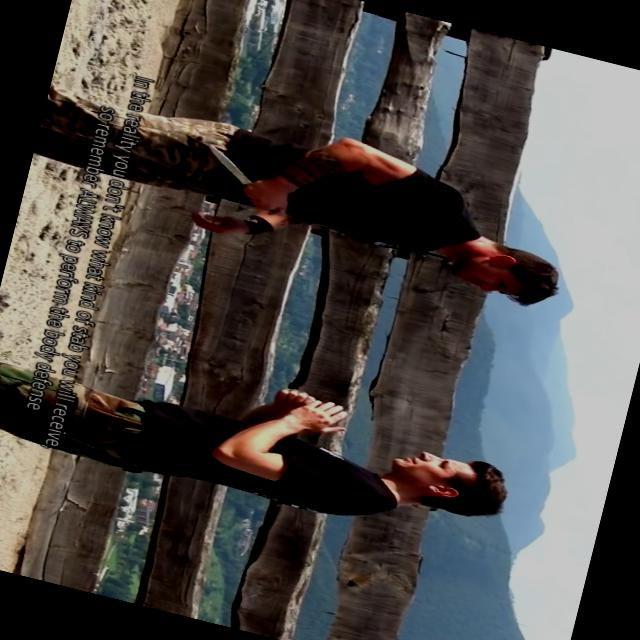knife: (194, 137, 296, 216)
